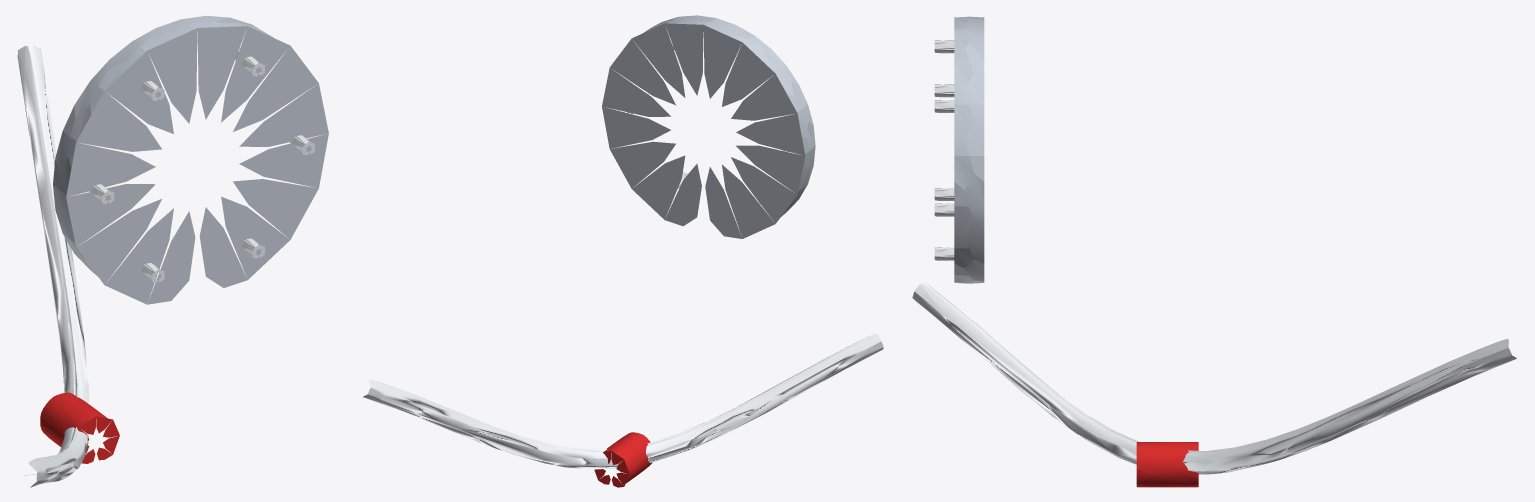
Rendered from clutch_inspection_slave.glb.
The picture shows the model from 3 angles, left to right: view 1: azimuth 30°, elevation 25°; view 2: azimuth 150°, elevation 25°; view 3: azimuth 270°, elevation 25°; orthographic projection. The views are drawn at different scales.
Visible parts, largest first — view 1: Clutch_Inspection_Slave_Line_Assembly; view 2: Clutch_Inspection_Slave_Line_Assembly; view 3: Clutch_Inspection_Slave_Line_Assembly.
Boxes of the visible parts, x1=… form: Clutch_Inspection_Slave_Line_Assembly: x1=17, y1=16, x2=328, y2=487; Clutch_Inspection_Slave_Line_Assembly: x1=363, y1=15, x2=883, y2=487; Clutch_Inspection_Slave_Line_Assembly: x1=912, y1=16, x2=1516, y2=487.
Bounding box in the file's own units: 0.1478 × 0.2049 × 0.2455.
